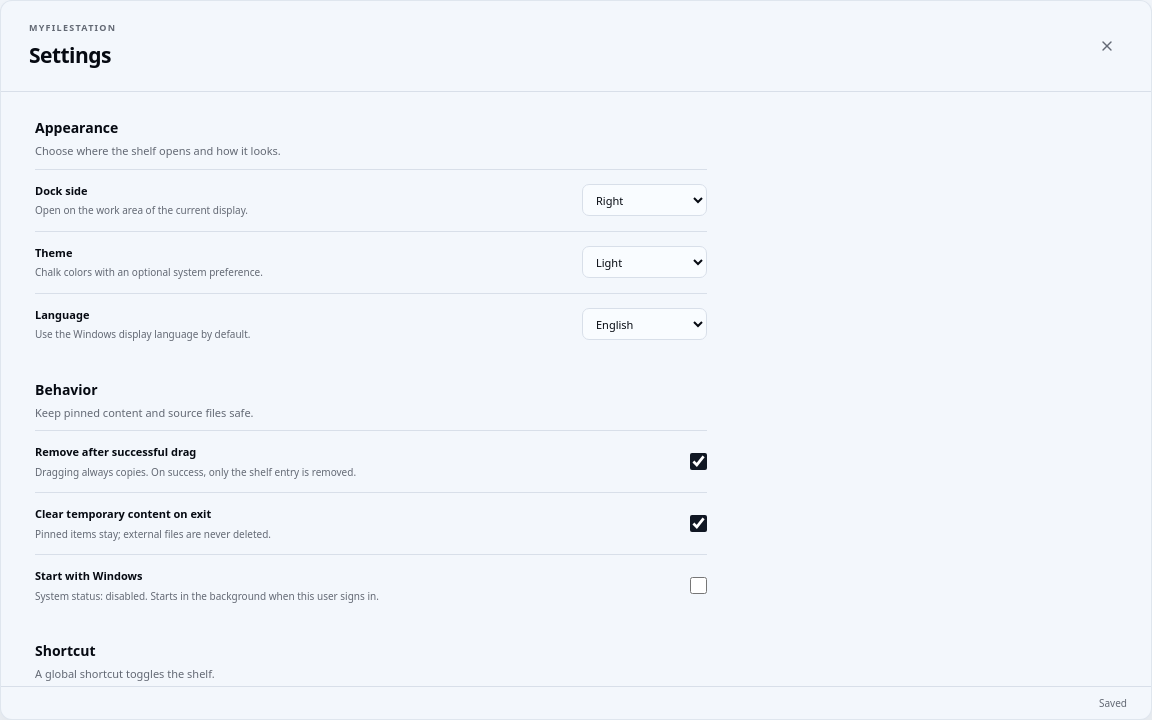
shelf interactions › rolls back a setting change when persistence fails
expect the text "System status: disabled" is shown: met, box [35,588,379,602]
Select "Dark" in the dropdown showing "Light" at (644,262), box [582,246,707,278]
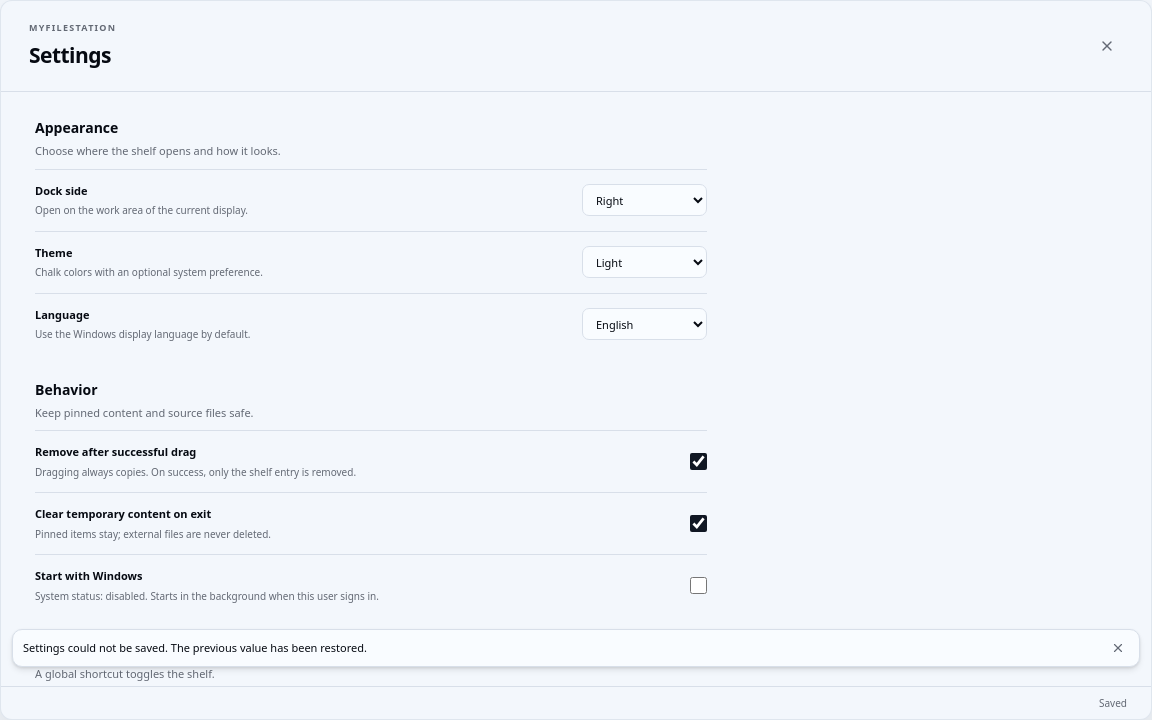
expect the message reads "Settings could not be saved. The previous value has been restored.": met, box [23,640,367,655]
